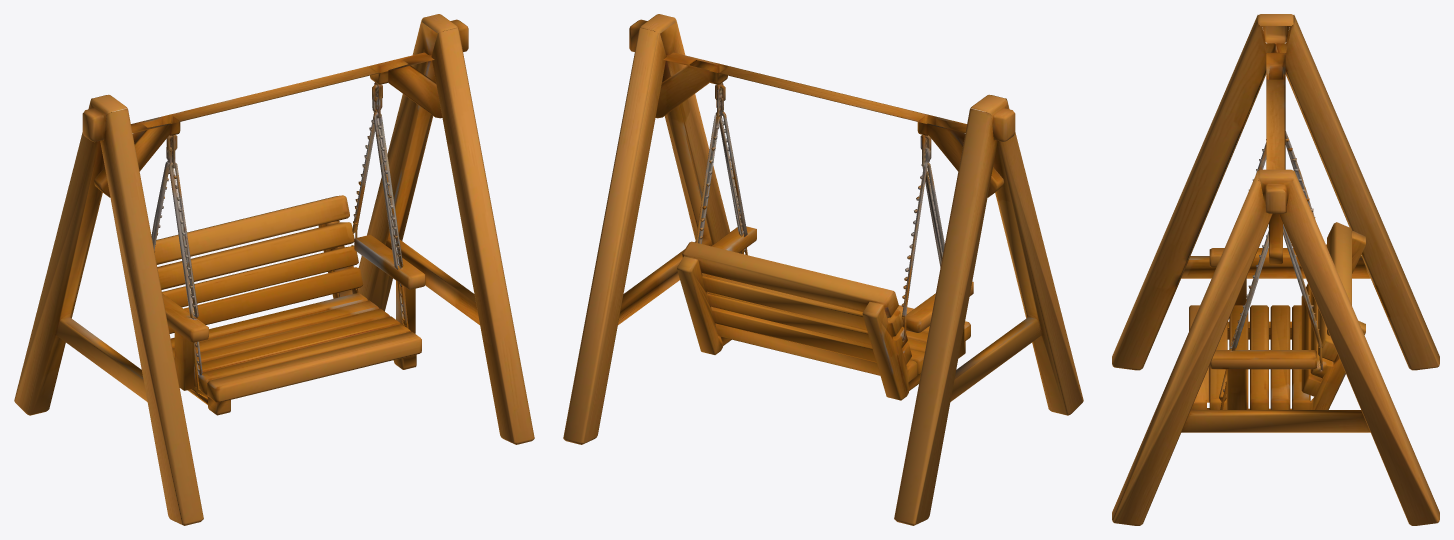
Rendered from Outdoor__a_wooden_swing_set_8a665dfc_v4.cluster.glb.
3 views of the same model, side by side, from view 1: azimuth 30°, elevation 25°; view 2: azimuth 150°, elevation 25°; view 3: azimuth 270°, elevation 25° (orthographic). The views are drawn at different scales.
Parts seen in each view (by area): view 1: material; view 2: material; view 3: material.
Part boxes in pixels (left/top/right/bottom): material: left=14, top=14, right=534, bottom=525; material: left=563, top=14, right=1083, bottom=525; material: left=1112, top=14, right=1439, bottom=525.
Bounding box in the file's own units: 1.9 × 1.75 × 1.49.
1 material, 1 textured.
